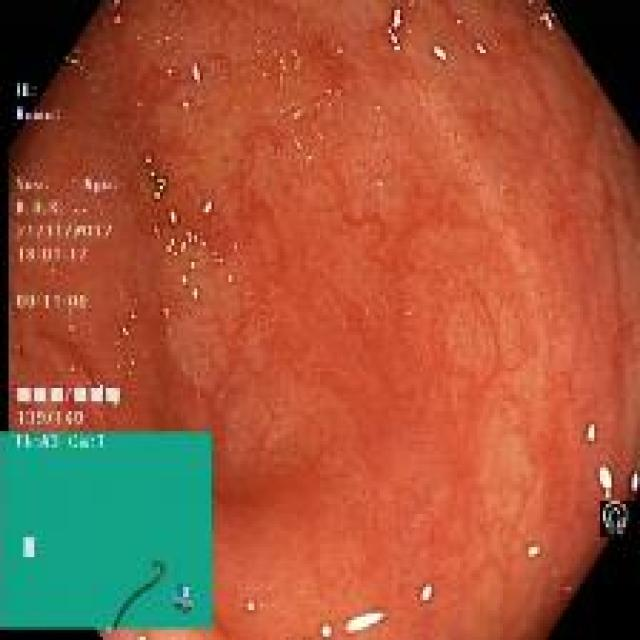ulcerative-colitis-grade-0-1: (88, 33, 570, 439)
